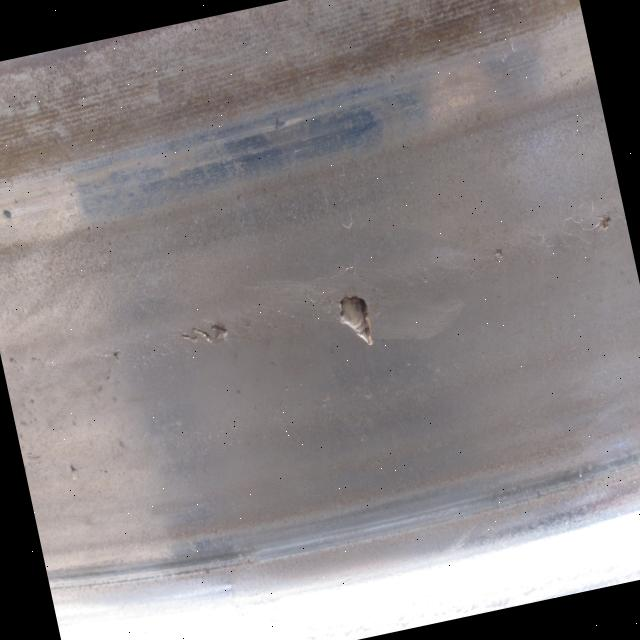Blue hole: (331, 289, 377, 349)
Peeling: (175, 315, 234, 354), (494, 247, 512, 269), (597, 212, 614, 233)
